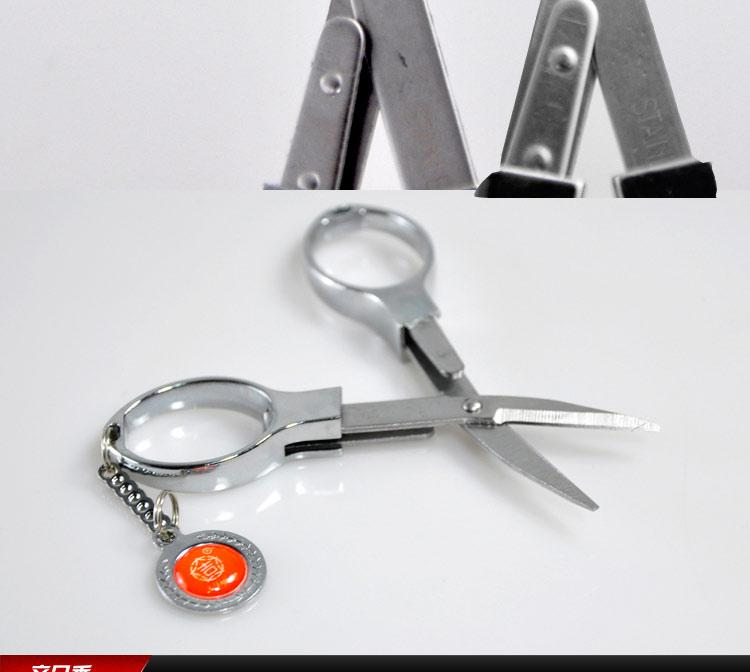scissor: (111, 184, 655, 508)
